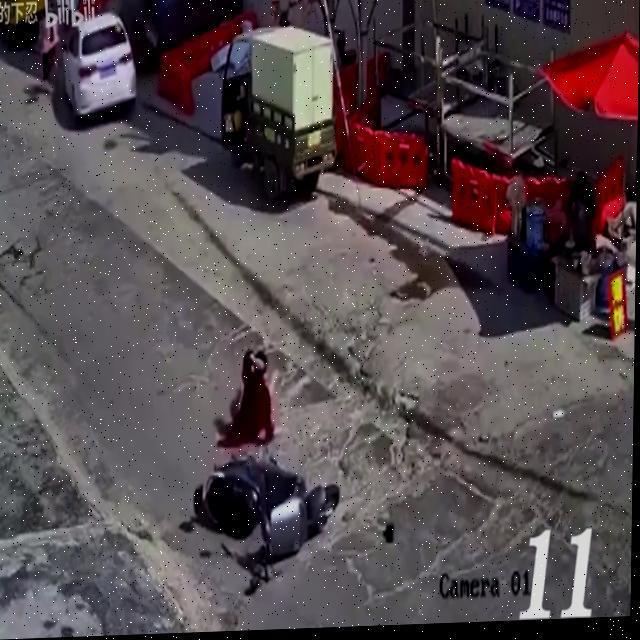normal: (188, 15, 333, 215), (40, 0, 150, 150)
single accident: (137, 315, 362, 602)
